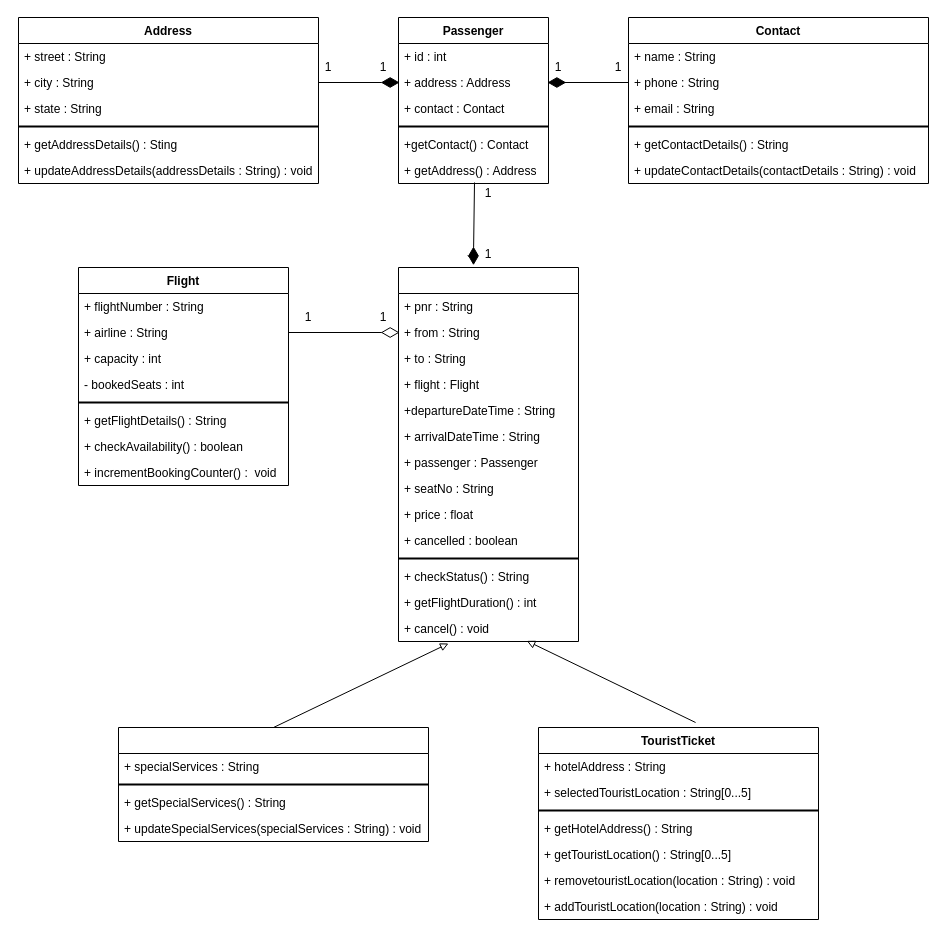
This 946x940 diagram has some shape labels left out. The shapes that lost their labels are listed below. From the top down, each one's box as (x1, y1, x2, y2) in pixels, then its label:
(398, 266, 578, 642): Ticket
(118, 726, 428, 842): RegulatTicket
